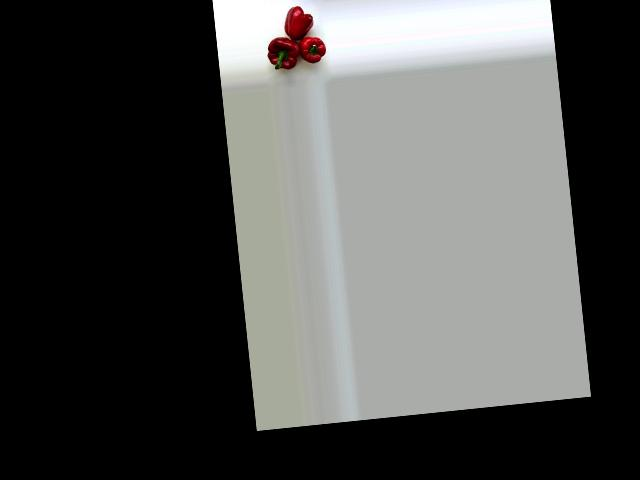bell_pepper: (279, 0, 320, 42)
